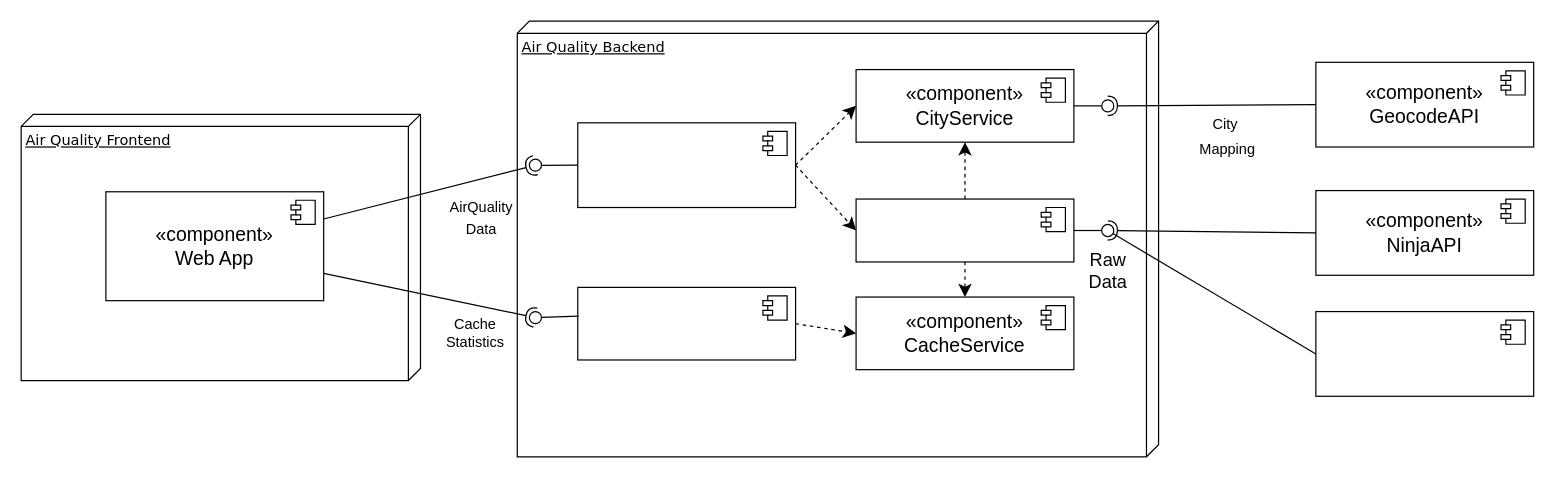
Some shapes in this 1555 by 478 pixel diagram are drawn without their labels. Here are the shapes that lost their labels. From the top down, the centre of each, then its label:
At pixel 686 165: "«component» AirQualityController".
At pixel 964 230: "«component» AirQualityService".
At pixel 686 323: "«component» CacheStatsController".
At pixel 1424 353: "«component» OpenWeatherAPI".
